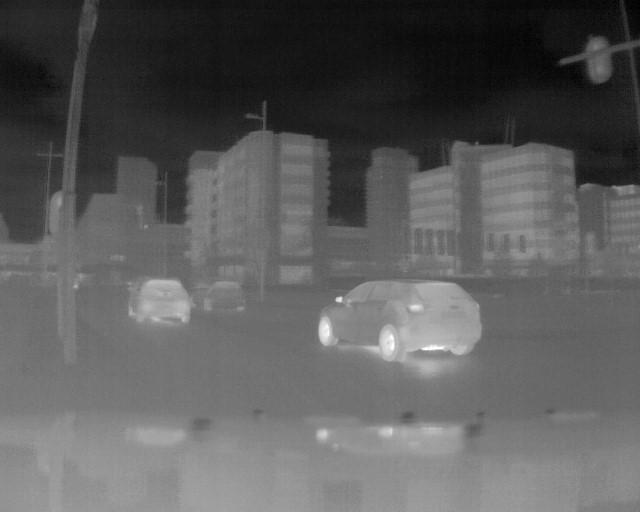car: (315, 275, 485, 363), (128, 274, 193, 324), (189, 277, 247, 314)
